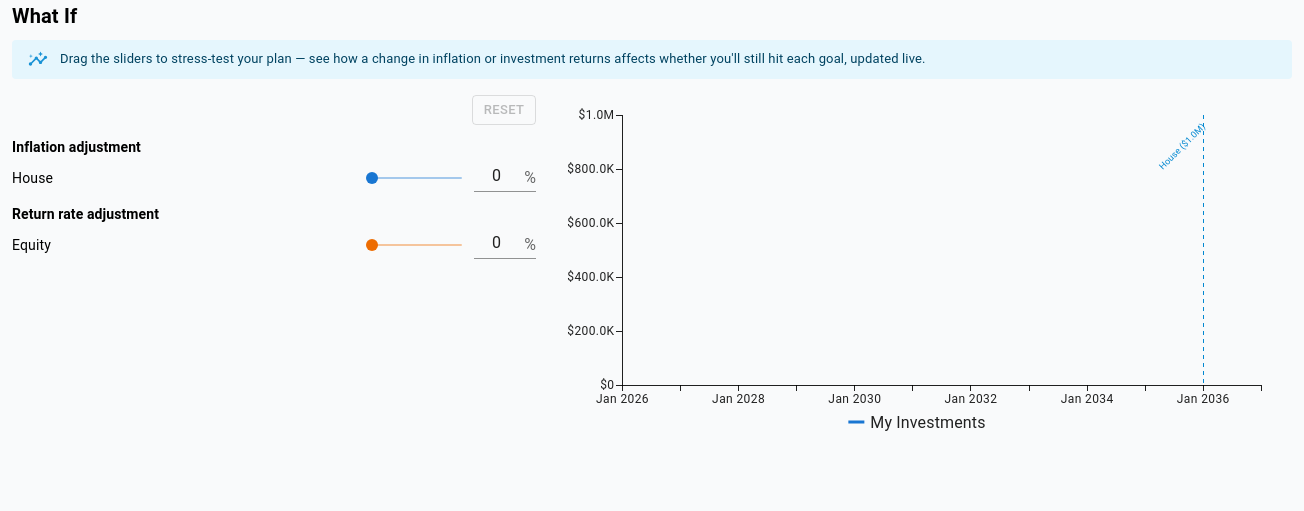
Scenario: WhatIf › resets adjustments back to baseline when Reset is clicked
Set the slider named "House inflation rate" to "20" at (372, 178), box [366,172,378,184]
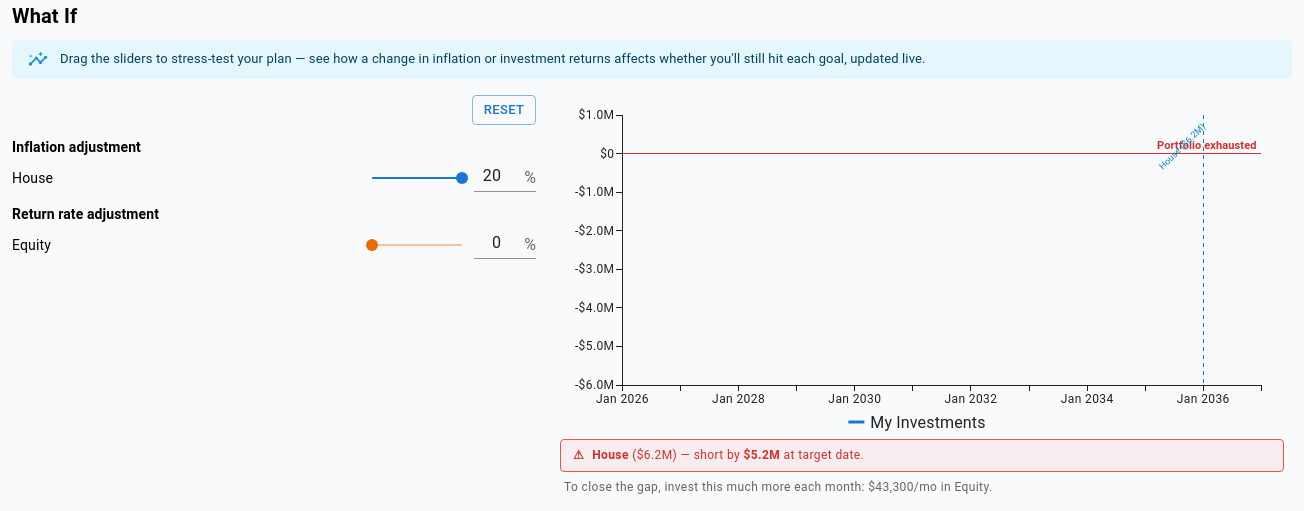
Check: the text "House ($6.2M) — short by $5.2M at target date." is shown, box [592,446,864,466]
Click the button "Reset" at (504, 110), box [472,95,536,125]
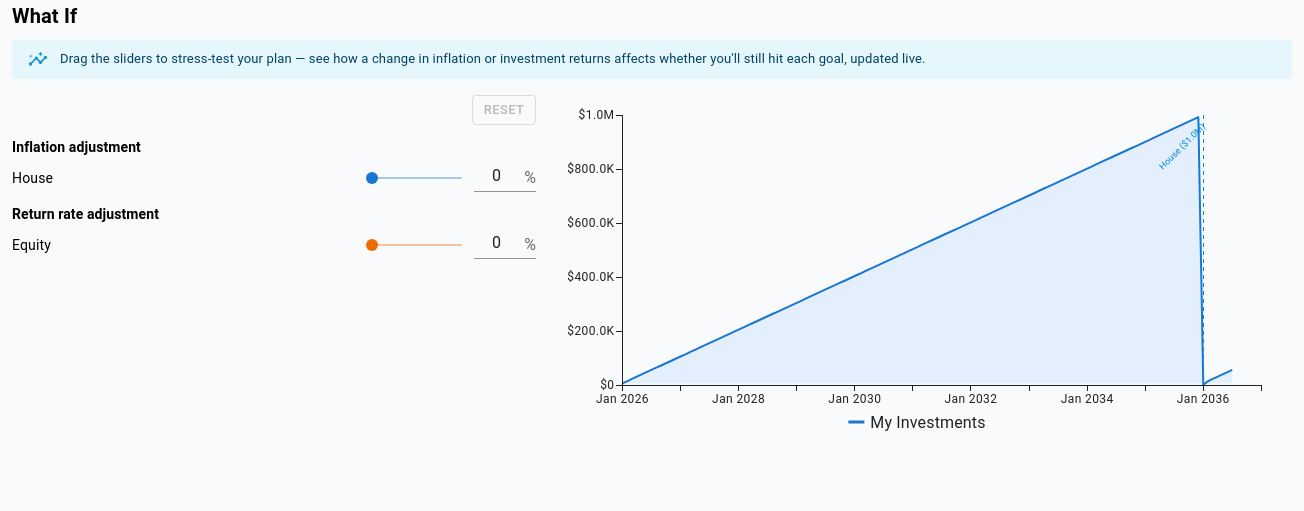
Check: the text "short by" is gone
